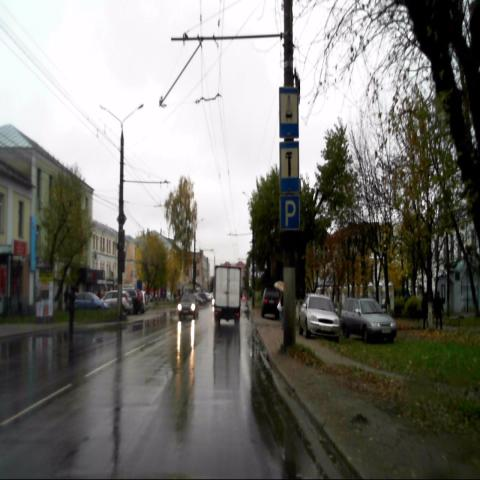7_4: (280, 141, 299, 195)
7_5: (278, 87, 300, 139)
